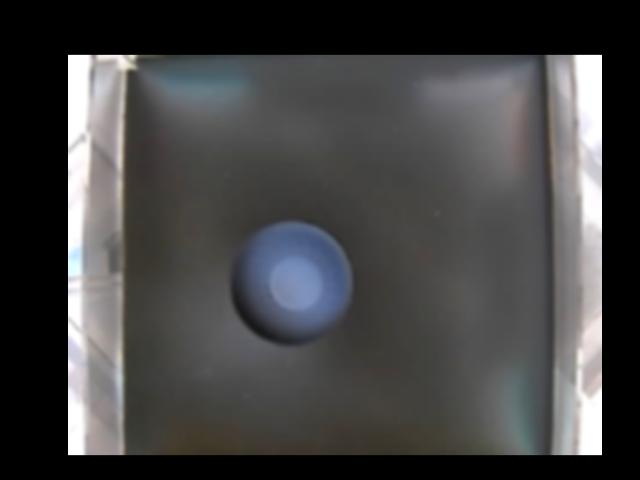Cup: (232, 219, 355, 345)
